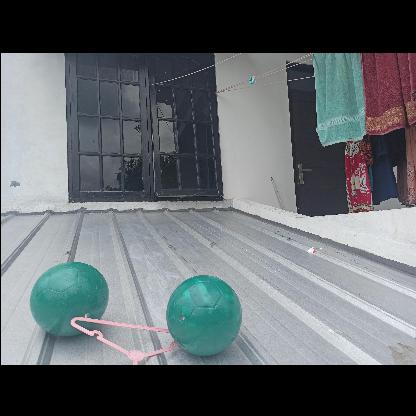green_ball: (162, 272, 244, 352), (29, 258, 108, 336)
